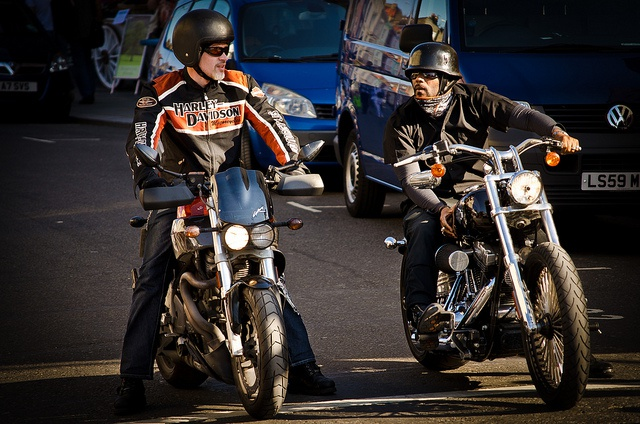non-vehicle: (125, 137, 326, 417), (385, 137, 590, 406)
